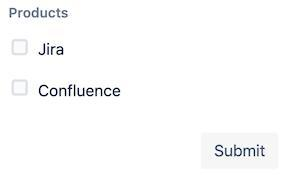button: (202, 134, 278, 168)
checkbox: (12, 40, 29, 57), (13, 81, 29, 97)
label: (40, 83, 123, 101), (10, 7, 72, 23), (39, 40, 66, 60)
